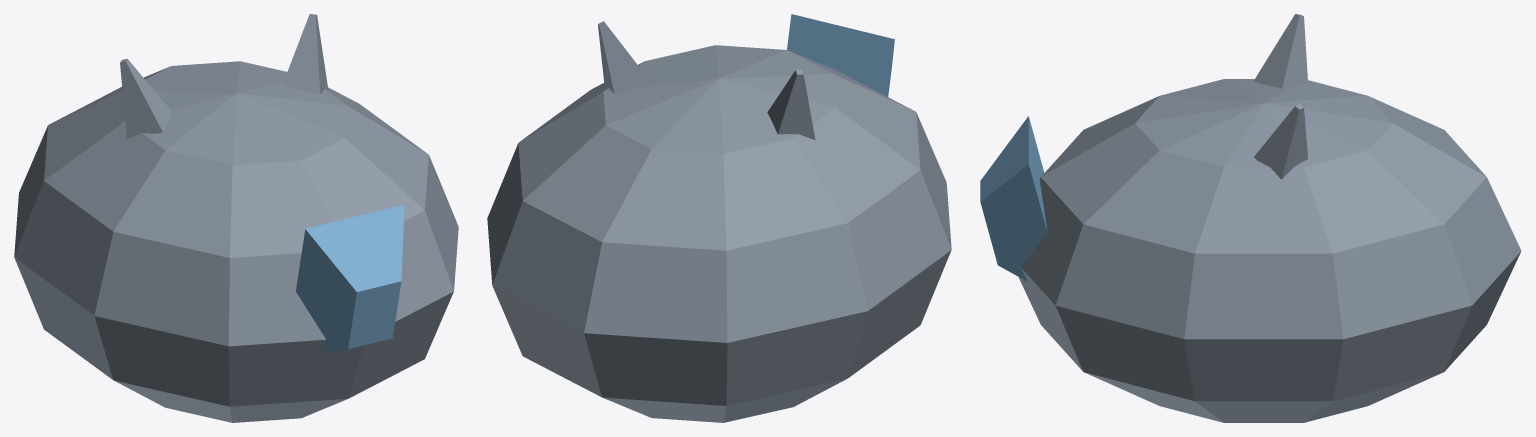
File: crest_winterfang.glb
3 renders of one model, left to right at view 1: azimuth 30°, elevation 25°; view 2: azimuth 150°, elevation 25°; view 3: azimuth 270°, elevation 25°, orthographic. The views are drawn at different scales.
Visible parts, largest first — view 1: Crest_winterfang; view 2: Crest_winterfang; view 3: Crest_winterfang.
Part boxes in pixels (x1,y1,x2,y2): Crest_winterfang: (14, 14, 458, 422); Crest_winterfang: (487, 14, 951, 422); Crest_winterfang: (980, 14, 1521, 422).
Size of the model in its own units: 1.1 by 0.9866 by 1.43.
